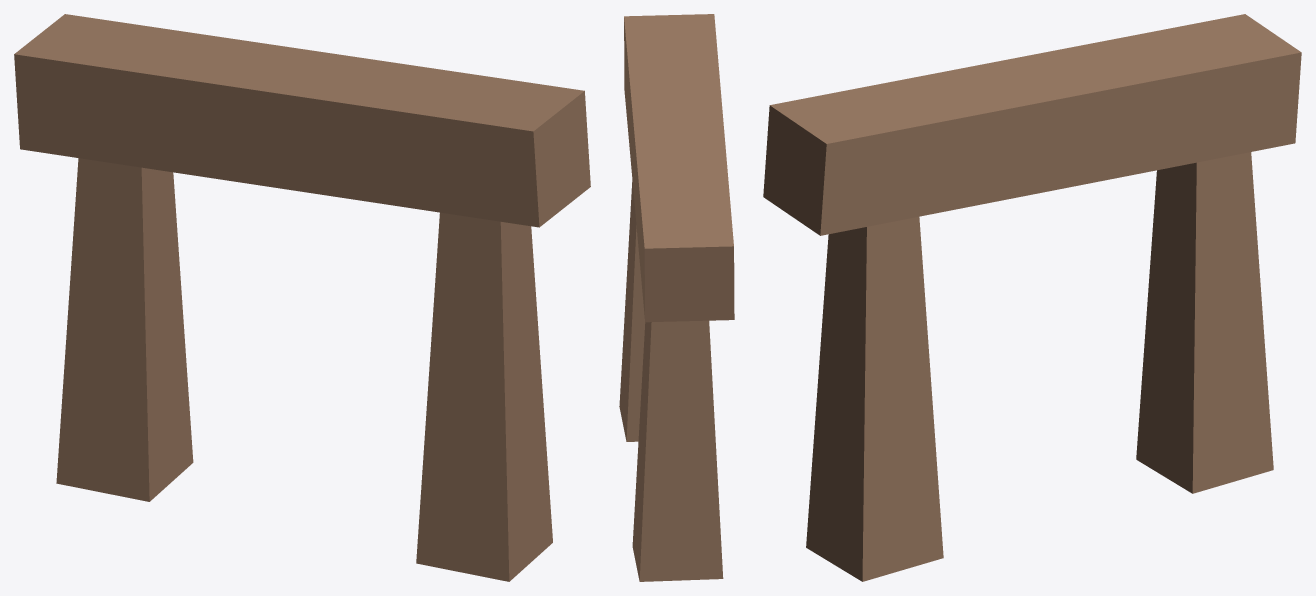
Rendered from Gate.fbx.
The picture shows the model from 3 angles, left to right: view 1: azimuth 30°, elevation 25°; view 2: azimuth 150°, elevation 25°; view 3: azimuth 270°, elevation 25°; orthographic projection. The views are drawn at different scales.
Visible parts, largest first — view 1: Gate; view 2: Gate; view 3: Gate.
Boxes of the visible parts, box(x1,y1,x2,y2) form: Gate: box(14, 14, 590, 581); Gate: box(619, 14, 734, 581); Gate: box(763, 14, 1301, 581).
Size of the model in its own units: 1474 by 1835 by 2013.
